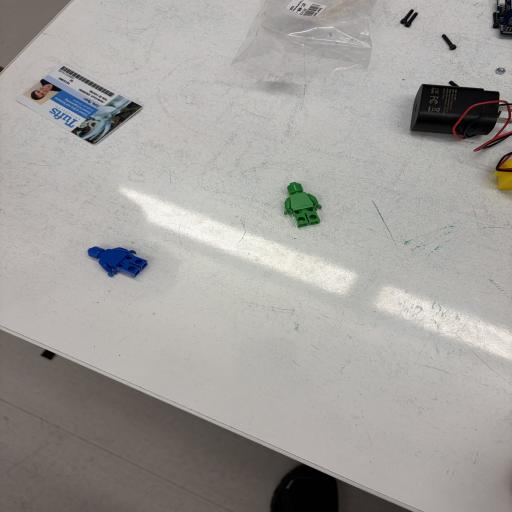Blue-Lego: (88, 246, 148, 277)
Green-Lego: (284, 182, 321, 228)
